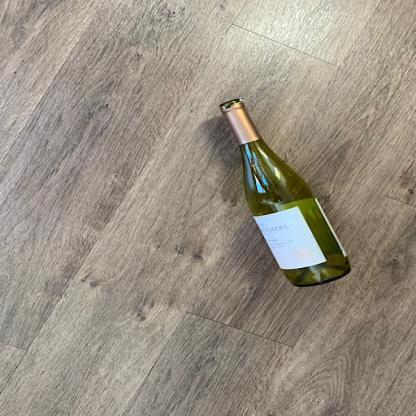trash: (222, 98, 352, 289)
